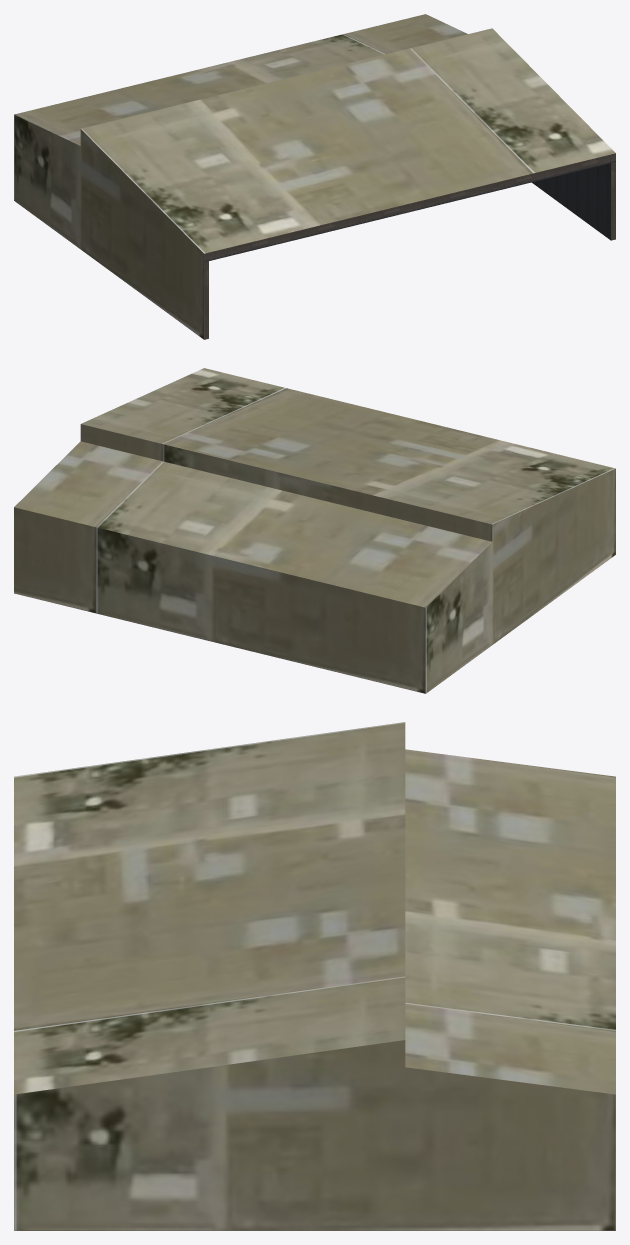
The model's file is Maintanence Hangar2.gltf.
3 renders of one model, top to bottom at view 1: azimuth 30°, elevation 25°; view 2: azimuth 150°, elevation 25°; view 3: azimuth 270°, elevation 25°, orthographic. The views are drawn at different scales.
Parts seen in each view (by area): view 1: node1, node4, node3, node2; view 2: node1; view 3: node1.
Part boxes in pixels (x1=…): node1: x1=14, y1=14, x2=615, y2=339; node4: x1=204, y1=153, x2=615, y2=262; node3: x1=532, y1=163, x2=610, y2=240; node2: x1=204, y1=162, x2=615, y2=339; node1: x1=14, y1=368, x2=615, y2=693; node1: x1=14, y1=722, x2=615, y2=1230.
Bounding box in the file's own units: 25 × 7 × 20.
4 materials, 4 textured.
